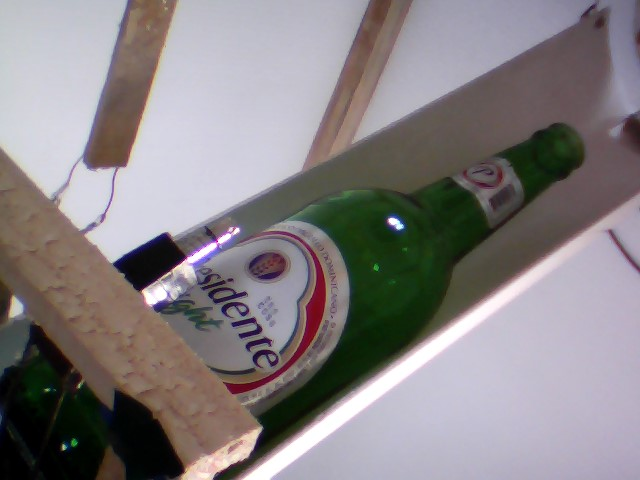vidrio: (197, 117, 599, 435)
